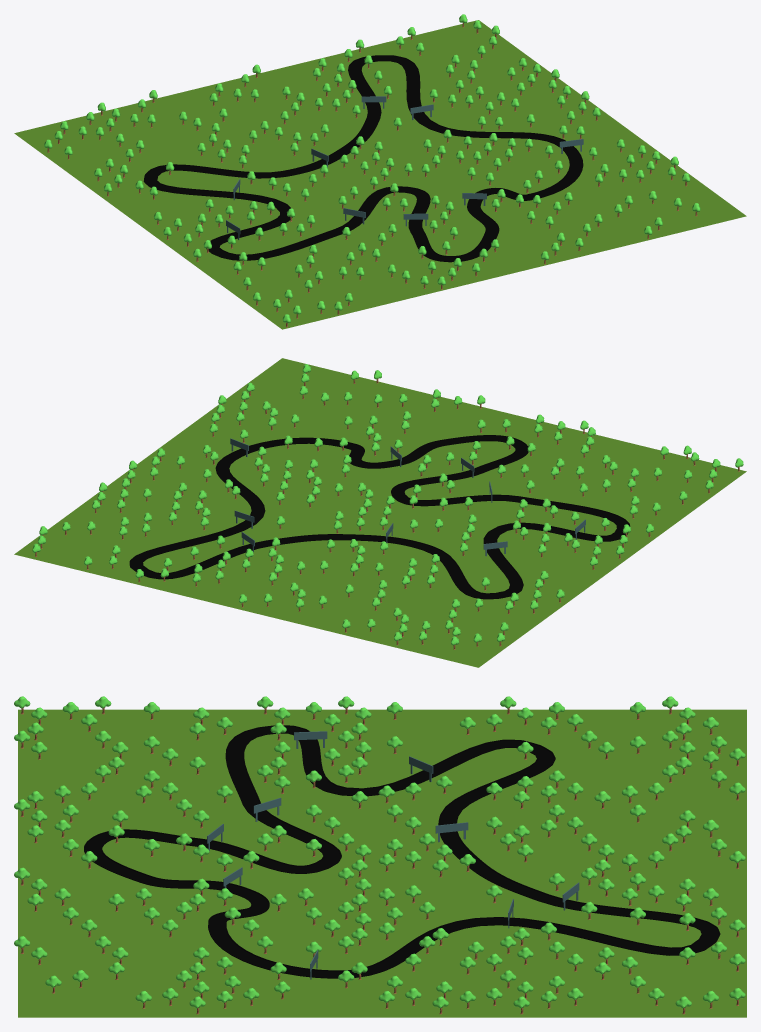
The model's file is map.fbx.
The picture shows the model from 3 angles, top to bottom: view 1: azimuth 30°, elevation 25°; view 2: azimuth 150°, elevation 25°; view 3: azimuth 270°, elevation 25°; orthographic projection. The views are drawn at different scales.
Parts seen in each view (by area): view 1: Ground; view 2: Ground; view 3: Ground.
Part boxes in pixels (x1,y1,x2,y2): Ground: [14, 14, 746, 329]; Ground: [14, 358, 746, 667]; Ground: [14, 696, 746, 1017].
Bounding box in the file's own units: 12167 × 316 × 12231.
